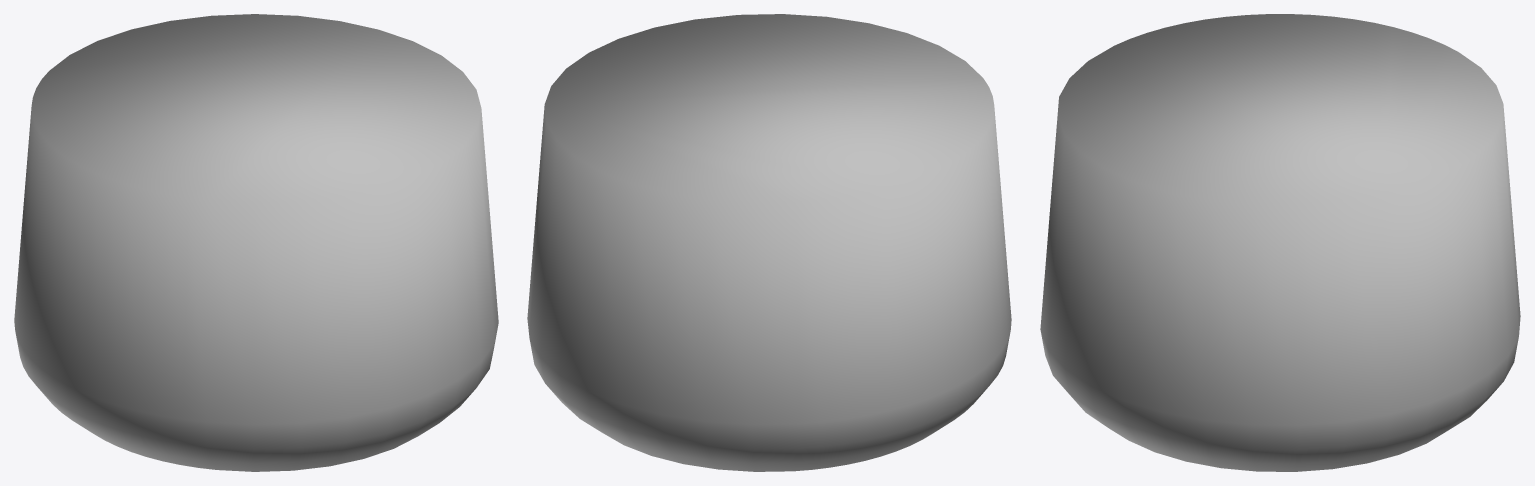
File: CoffeeLiqiud.fbx
3 renders of one model, left to right at view 1: azimuth 30°, elevation 25°; view 2: azimuth 150°, elevation 25°; view 3: azimuth 270°, elevation 25°, orthographic.
Parts seen in each view (by area): view 1: CoffeeMaker_glass__1_.001; view 2: CoffeeMaker_glass__1_.001; view 3: CoffeeMaker_glass__1_.001.
Boxes of the visible parts, box(x1,y1,x2,y2) form: CoffeeMaker_glass__1_.001: box(14, 14, 498, 471); CoffeeMaker_glass__1_.001: box(527, 14, 1011, 471); CoffeeMaker_glass__1_.001: box(1040, 14, 1520, 471).
Bounding box in the file's own units: 3.04 × 1.97 × 3.04.
